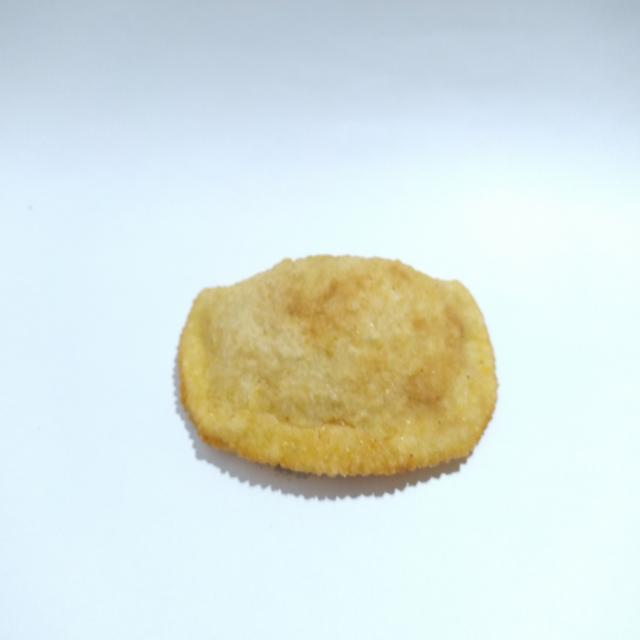Pastel_Mandio: (171, 250, 506, 497)
